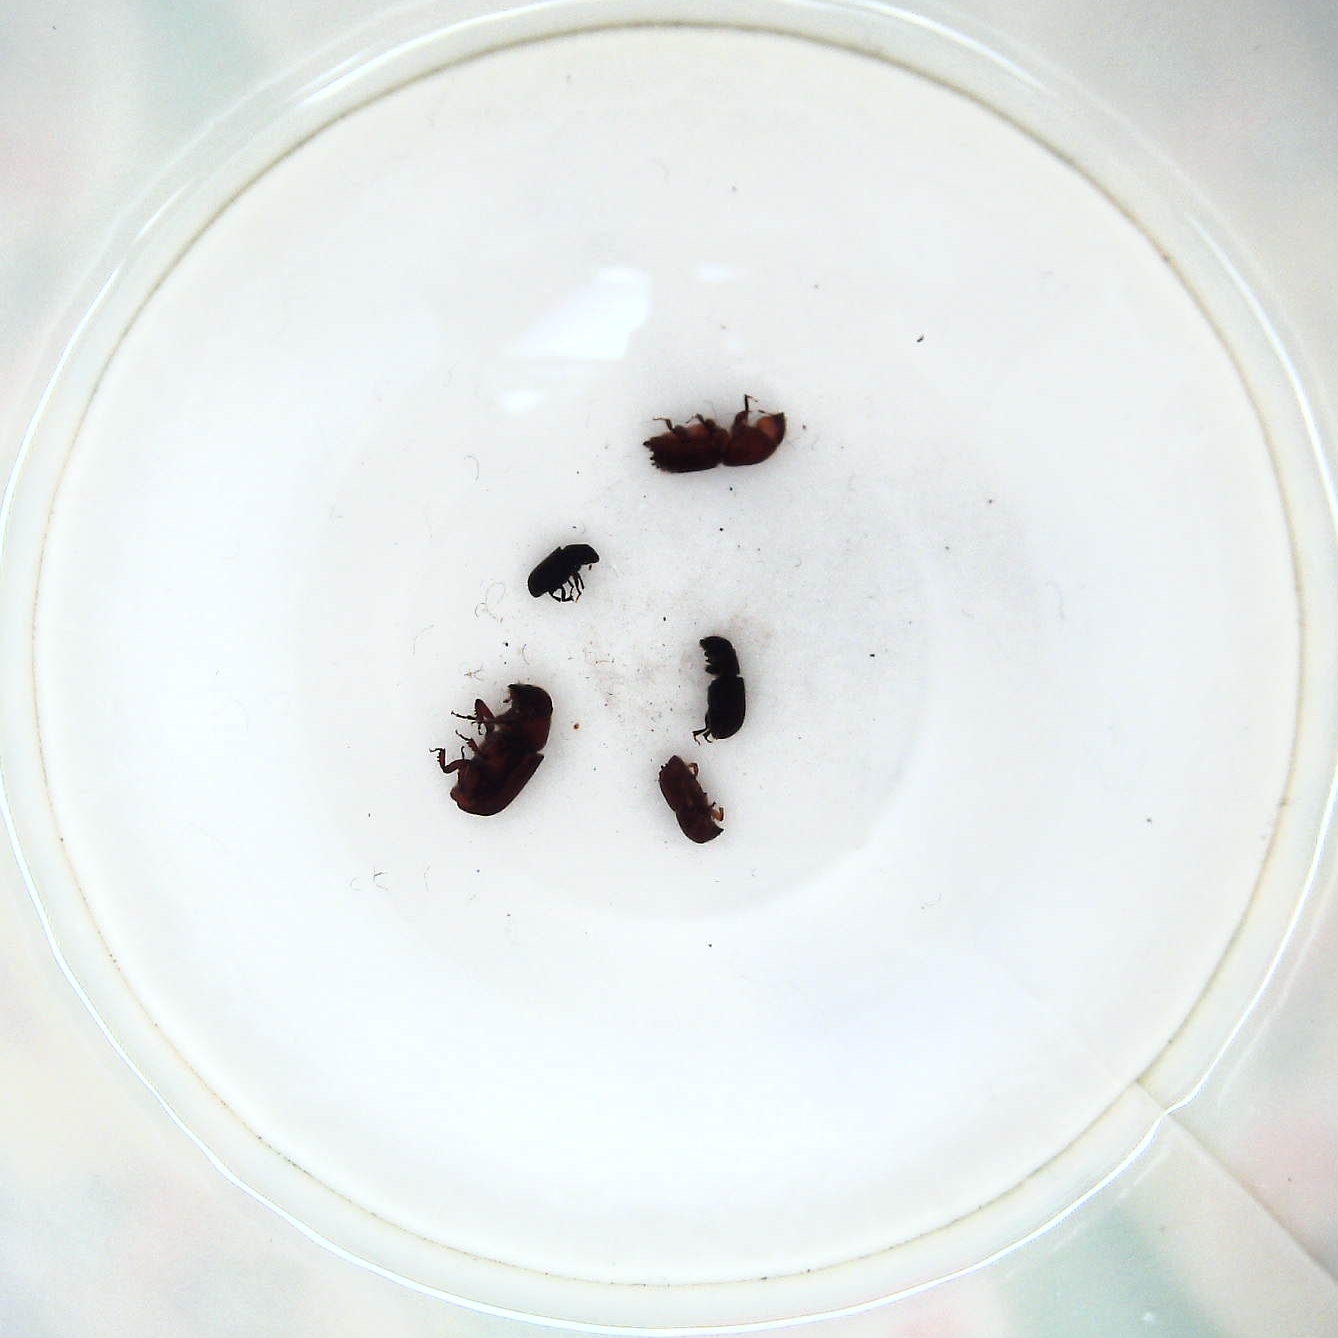Boerner: (641, 395, 794, 479)
Leconte: (431, 678, 557, 816)
armandi: (689, 631, 750, 745)
coleoptera: (526, 543, 602, 607)
linnaeus: (649, 755, 727, 848)
